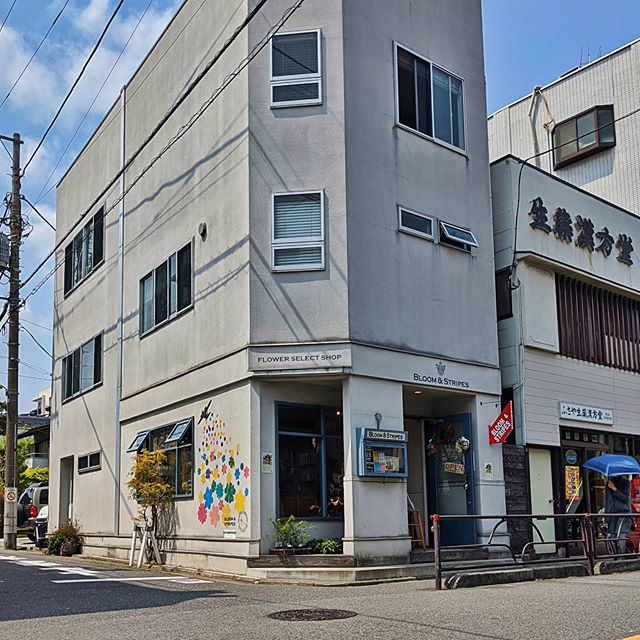building: (42, 1, 489, 556), (492, 160, 640, 562)
street: (3, 563, 640, 640)
